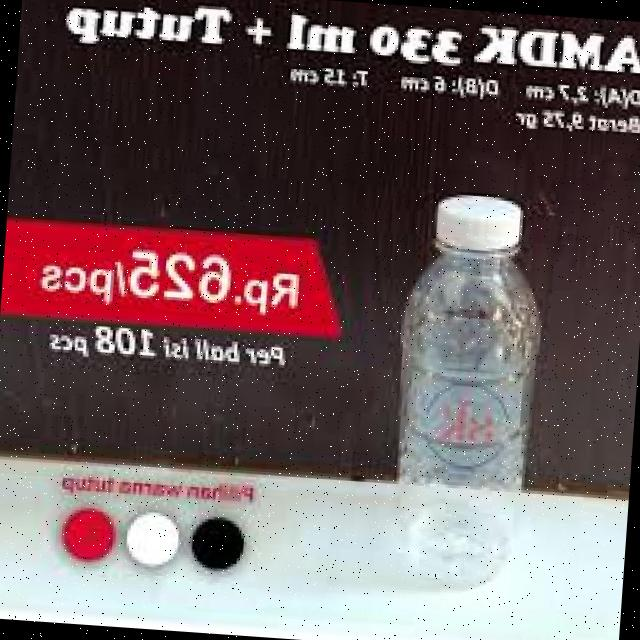bottle: (374, 193, 564, 598)
cap: (432, 192, 524, 258)
